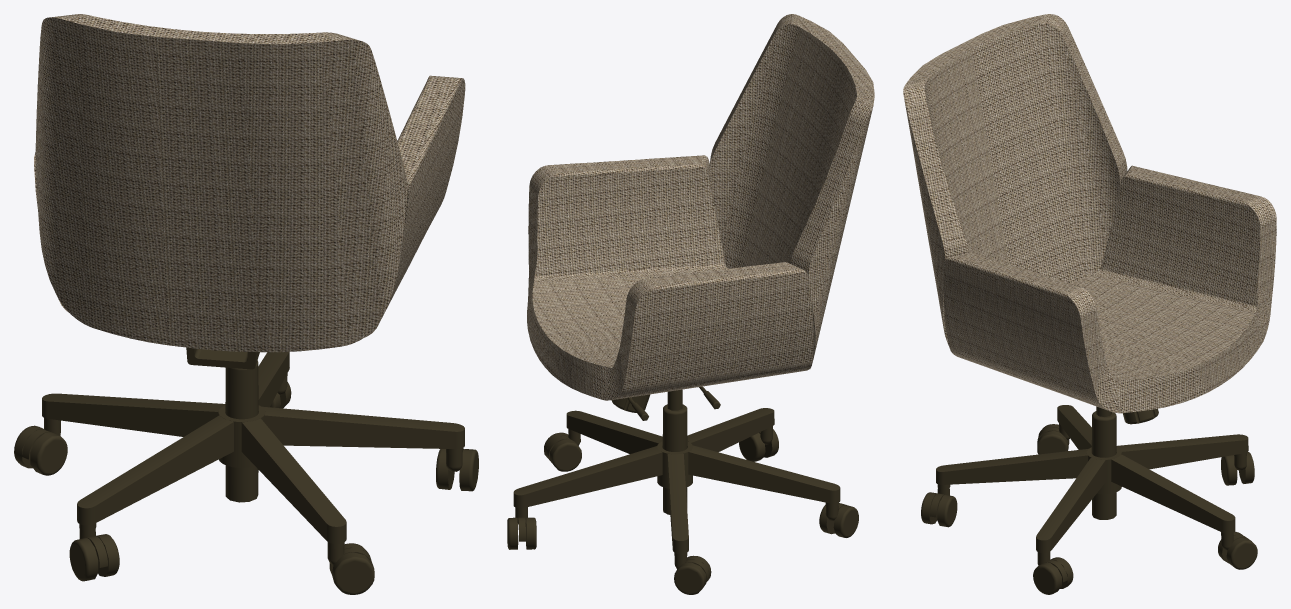
File: Chair.FBX
3 views of the same model, side by side, from view 1: azimuth 30°, elevation 25°; view 2: azimuth 150°, elevation 25°; view 3: azimuth 270°, elevation 25° (orthographic). The views are drawn at different scales.
Parts seen in each view (by area): view 1: FURN_Office Chair FABRIC_Polished Base [703807]; view 2: FURN_Office Chair FABRIC_Polished Base [703807]; view 3: FURN_Office Chair FABRIC_Polished Base [703807].
Boxes of the visible parts, x1,y1,x2,y2 form: FURN_Office Chair FABRIC_Polished Base [703807]: (14,14,478,594); FURN_Office Chair FABRIC_Polished Base [703807]: (507,14,874,594); FURN_Office Chair FABRIC_Polished Base [703807]: (903,14,1276,594).
Size of the model in its own units: 75.04 by 94.61 by 74.71.
2 materials, 1 textured.
